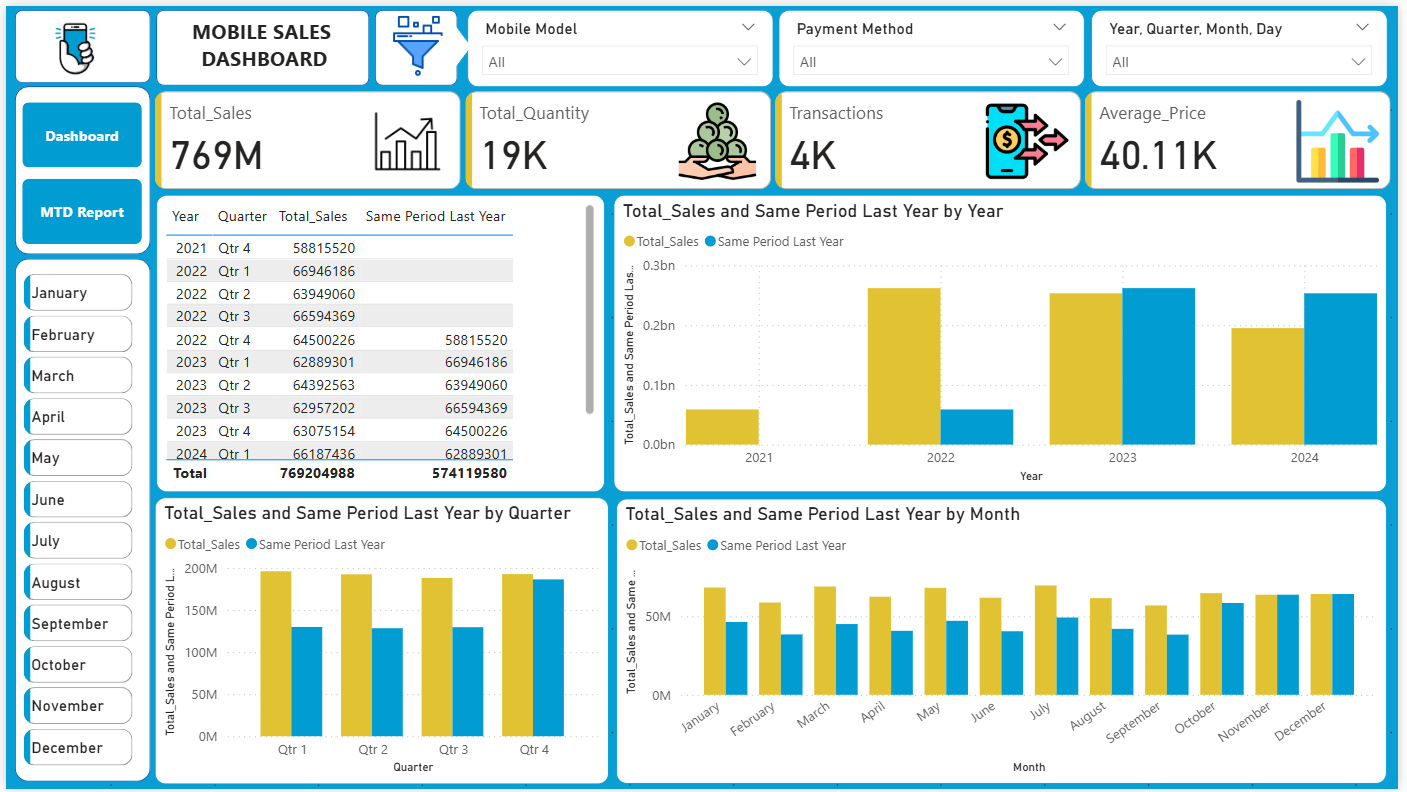

Layout of this report page (visuals, bound fields, positions):
{"tool":"powerbi","page":{"name":"Same Period Last Year","canvas":[1280,720],"ordinal":2},"visuals":[{"type":"shape","box":[7.5,3.8,125,67.5],"z":0},{"type":"image","box":[23.8,3.8,78.8,71.2],"z":1000},{"type":"shape","box":[7.5,73.8,125,155],"z":2000},{"type":"cardVisual","fields":{"Data":["Sales_Data.Total_Sales","Sales_Data.Total_Quantity","Sales_Data.Transactions","Sales_Data.Average_Price"]},"box":[132.5,73.8,1147.5,100],"z":3000},{"type":"slicer","fields":{"Values":["Sales_Data.Mobile Model"]},"box":[423.8,3.8,281.2,71.2],"z":4000},{"type":"slicer","fields":{"Values":["Sales_Data.Payment Method"]},"box":[710,3.8,281.2,71.2],"z":5000},{"type":"slicer","fields":{"Values":["Custom_Calendar.Date.Variation.Date Hierarchy.Year","Custom_Calendar.Date.Variation.Date Hierarchy.Quarter","Custom_Calendar.Date.Variation.Date Hierarchy.Month","Custom_Calendar.Date.Variation.Date Hierarchy.Day"]},"box":[997.5,3.8,272.5,71.2],"z":6000},{"type":"shape","box":[338.8,3.8,76.2,70],"z":7000},{"type":"image","box":[337.5,3.8,81.2,66.2],"z":8000},{"type":"shape","box":[397.5,17.5,30,40],"z":9000},{"type":"shape","box":[137.5,3.8,196.2,70],"z":10000},{"type":"textbox","box":[156.2,6.2,162.5,63.8],"z":11000},{"type":"shape","box":[7.5,232.5,125,481.2],"z":12000},{"type":"advancedSlicerVisual","fields":{"Values":["Custom_Calendar.Date.Variation.Date Hierarchy.Month"]},"box":[11.2,241.2,110,472.5],"z":13000},{"type":"tableEx","fields":{"Values":["Custom_Calendar.Date.Variation.Date Hierarchy.Year","Custom_Calendar.Date.Variation.Date Hierarchy.Quarter","Sales_Data.Total_Sales","Sales_Data.Same Period Last Year"]},"box":[137.5,173.8,412.5,273.8],"z":14000},{"type":"clusteredColumnChart","fields":{"Category":["Custom_Calendar.Date.Variation.Date Hierarchy.Year","Custom_Calendar.Date.Variation.Date Hierarchy.Quarter"],"Y":["Sales_Data.Total_Sales","Sales_Data.Same Period Last Year"]},"box":[558.8,173.8,711.2,273.8],"z":15000},{"type":"clusteredColumnChart","fields":{"Y":["Sales_Data.Total_Sales","Sales_Data.Same Period Last Year"],"Category":["Custom_Calendar.Date.Variation.Date Hierarchy.Year","Custom_Calendar.Date.Variation.Date Hierarchy.Quarter","Custom_Calendar.Date.Variation.Date Hierarchy.Month","Custom_Calendar.Date.Variation.Date Hierarchy.Day"]},"box":[561.2,452.5,708.8,262.5],"z":16000},{"type":"clusteredColumnChart","fields":{"Category":["Custom_Calendar.Date.Variation.Date Hierarchy.Year","Custom_Calendar.Date.Variation.Date Hierarchy.Quarter"],"Y":["Sales_Data.Total_Sales","Sales_Data.Same Period Last Year"]},"box":[136.2,451.2,417.5,263.8],"z":17000},{"type":"pageNavigator","box":[15,88.8,110,130],"z":18000}]}

Visuals, with their boxes in screenshot pixels (x1, y1, x2, y2), scaled from the page's 1280x720 canvas onto the 1407x792 screenshot:
shape: rect(8, 4, 146, 78)
image: rect(26, 4, 113, 82)
shape: rect(8, 81, 146, 252)
cardVisual - Sales_Data.Total_Sales x Sales_Data.Total_Quantity: rect(146, 81, 1406, 191)
slicer - Sales_Data.Mobile Model: rect(466, 4, 775, 82)
slicer - Sales_Data.Payment Method: rect(780, 4, 1090, 82)
slicer - Custom_Calendar.Date.Variation.Date Hierarchy.Year x Custom_Calendar.Date.Variation.Date Hierarchy.Quarter: rect(1096, 4, 1396, 82)
shape: rect(372, 4, 456, 81)
image: rect(371, 4, 460, 77)
shape: rect(437, 19, 470, 63)
shape: rect(151, 4, 367, 81)
textbox: rect(172, 7, 350, 77)
shape: rect(8, 256, 146, 785)
advancedSlicerVisual - Custom_Calendar.Date.Variation.Date Hierarchy.Month: rect(12, 265, 133, 785)
tableEx - Custom_Calendar.Date.Variation.Date Hierarchy.Year x Custom_Calendar.Date.Variation.Date Hierarchy.Quarter: rect(151, 191, 605, 492)
clusteredColumnChart - Custom_Calendar.Date.Variation.Date Hierarchy.Year x Custom_Calendar.Date.Variation.Date Hierarchy.Quarter: rect(614, 191, 1396, 492)
clusteredColumnChart - Sales_Data.Total_Sales x Sales_Data.Same Period Last Year: rect(617, 498, 1396, 787)
clusteredColumnChart - Custom_Calendar.Date.Variation.Date Hierarchy.Year x Custom_Calendar.Date.Variation.Date Hierarchy.Quarter: rect(150, 496, 609, 787)
pageNavigator: rect(16, 98, 137, 241)
